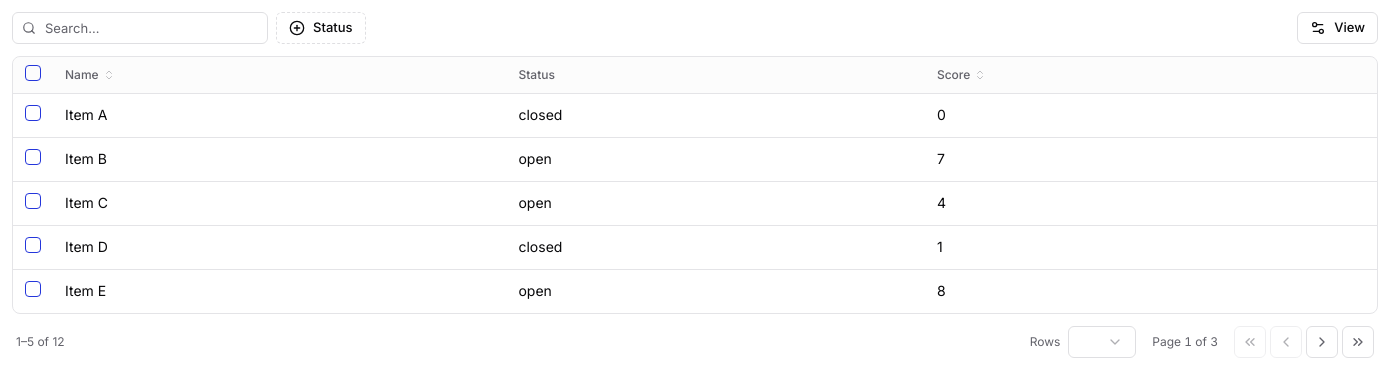
Test: DataTable › paginates and reports the visible range
Expected: the text "1–5 of 12" is shown, top-left (16, 334), bottom-right (65, 350)
Step 1. Click the button named "Next page" → (1322, 342), box top-left (1306, 326), bottom-right (1338, 358)
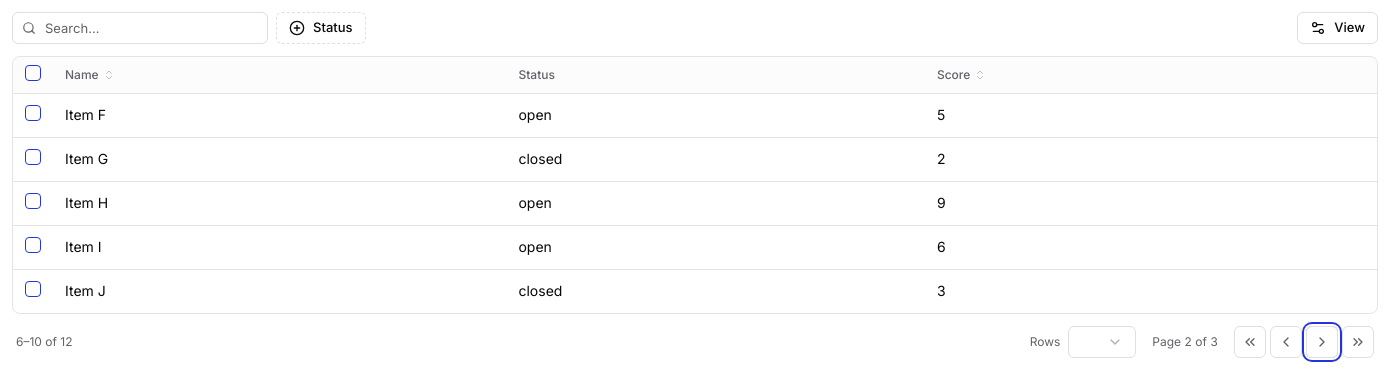
Result: the text "6–10 of 12" is shown at top-left (16, 334), bottom-right (72, 350)
Result: the cell "Item F" is shown at top-left (53, 93), bottom-right (506, 137)
